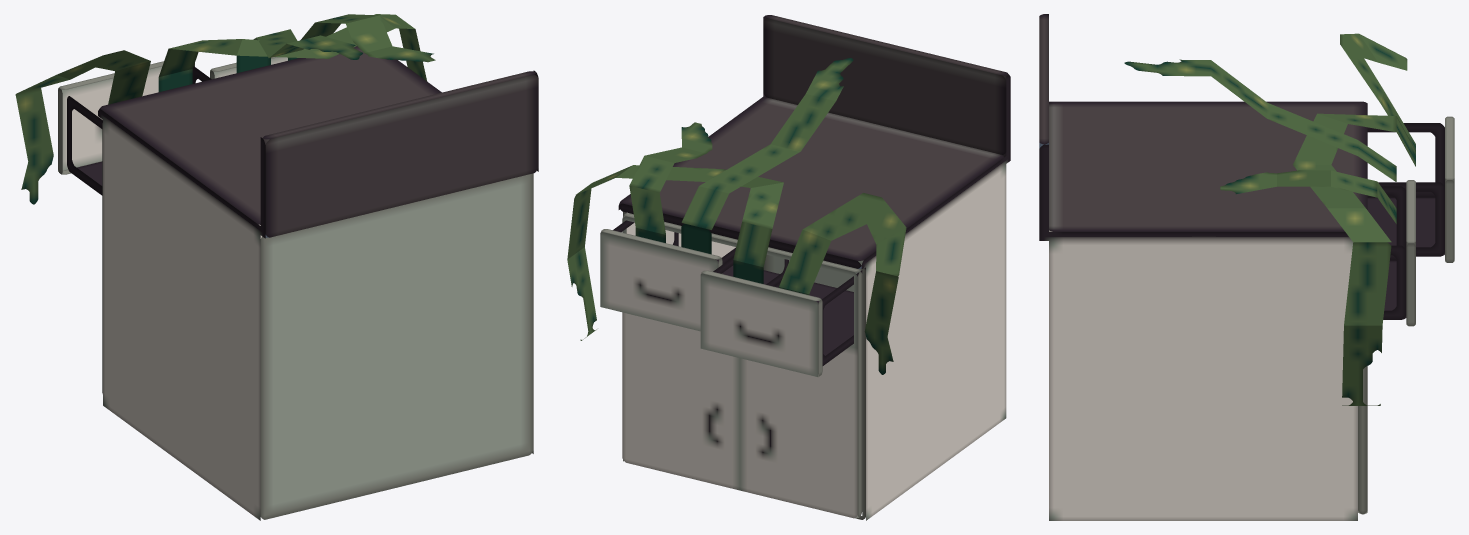
Rendered from countertopB.fbx.
The picture shows the model from 3 angles, left to right: view 1: azimuth 30°, elevation 25°; view 2: azimuth 150°, elevation 25°; view 3: azimuth 270°, elevation 25°; orthographic projection. The views are drawn at different scales.
Parts seen in each view (by area): view 1: countertopB; view 2: countertopB; view 3: countertopB.
Boxes of the visible parts, <box> form: countertopB: <box>15,14,538,520</box>; countertopB: <box>567,15,1010,520</box>; countertopB: <box>1039,14,1454,520</box>.
Size of the model in its own units: 283 by 280 by 269.
